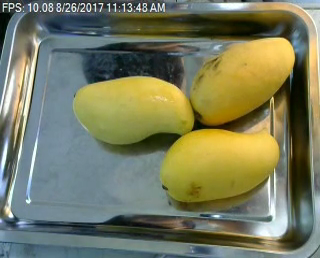Mango: (189, 35, 299, 127), (156, 128, 281, 206), (71, 71, 195, 145)
